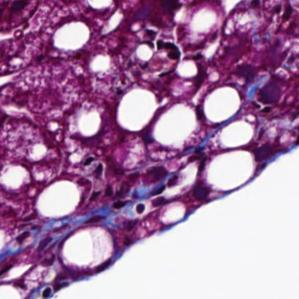inflammation: (134, 22, 189, 66), (71, 153, 110, 192), (128, 185, 170, 218)
